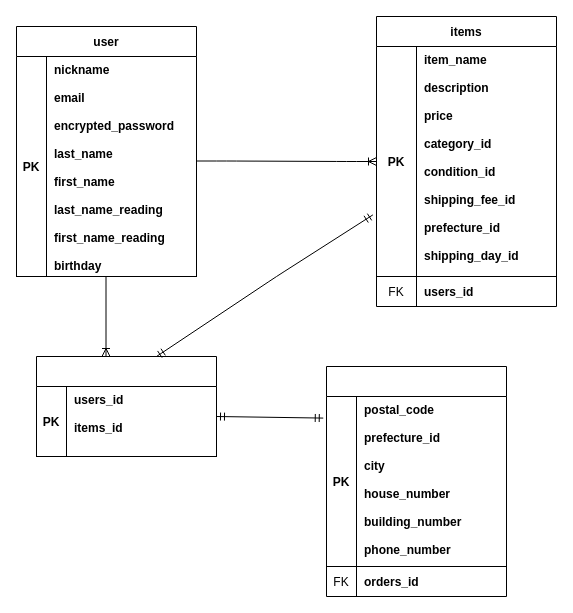
This 573x613 diagram has some shape labels left out. Each missing label, with the box of its shape:
address: (326, 366, 506, 596)
orders: (36, 356, 216, 456)
